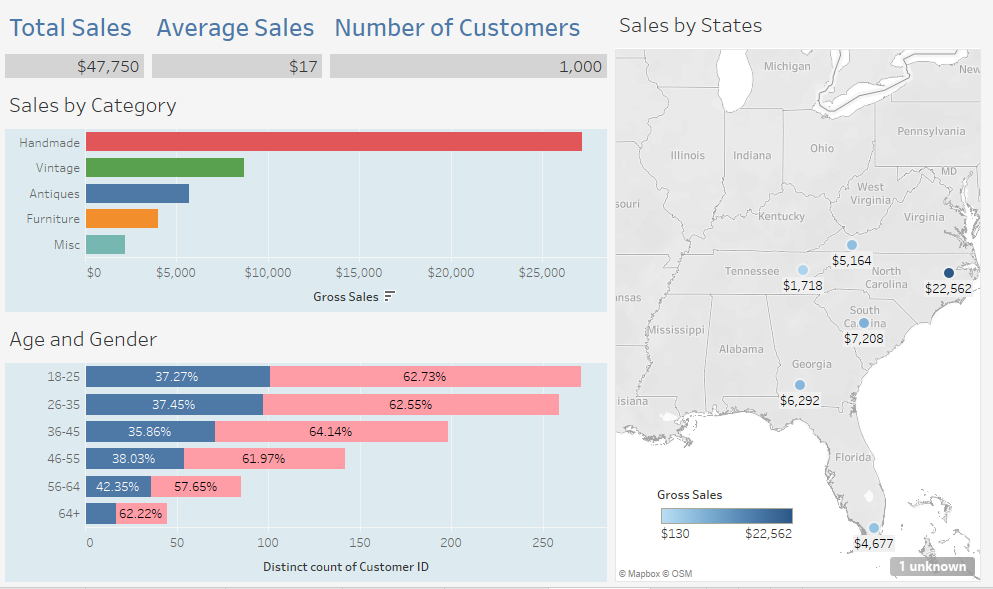

Layout of this report page (visuals, bound fields, positions):
{"tool":"tableau","page":{"name":"Dashboard 1","canvas":[1000,600],"ordinal":0},"visuals":[{"type":"worksheet","title":"Total Sales","mark":"Automatic","box":[8,8,147,80.4]},{"type":"worksheet","title":"Average Sales","mark":"Automatic","box":[155,8,178,80.4]},{"type":"worksheet","title":"Number of Customers","mark":"Automatic","box":[333,8,285,80.4]},{"type":"worksheet","title":"Sales by States","mark":"Automatic","box":[618,8,374,584]},{"type":"worksheet","title":"Sales by Category","mark":"Automatic","cols":["Gross Sales"],"box":[8,88.4,610,233.9]},{"type":"worksheet","title":"Age and Gender","mark":"Automatic","rows":["Age"],"cols":["Customer ID"],"box":[8,322.3,610,269.7]},{"type":"legend","title":"Sales by States","param":"[federated.1ltwqz012rz1ih10zwuyn1mretq4].[sum:Gross Sales:qk]","box":[664,492,140,67]}]}

Visuals, with their boxes in screenshot pixels (x1, y1, x2, y2), scaled from the page's 1000x600 canvas onto the 993x589 screenshot:
"Total Sales" worksheet: BBox(8, 8, 154, 87)
"Average Sales" worksheet: BBox(154, 8, 331, 87)
"Number of Customers" worksheet: BBox(331, 8, 614, 87)
"Sales by States" worksheet: BBox(614, 8, 985, 581)
"Sales by Category" worksheet: BBox(8, 87, 614, 316)
"Age and Gender" worksheet: BBox(8, 316, 614, 581)
"Sales by States" legend: BBox(659, 483, 798, 549)
